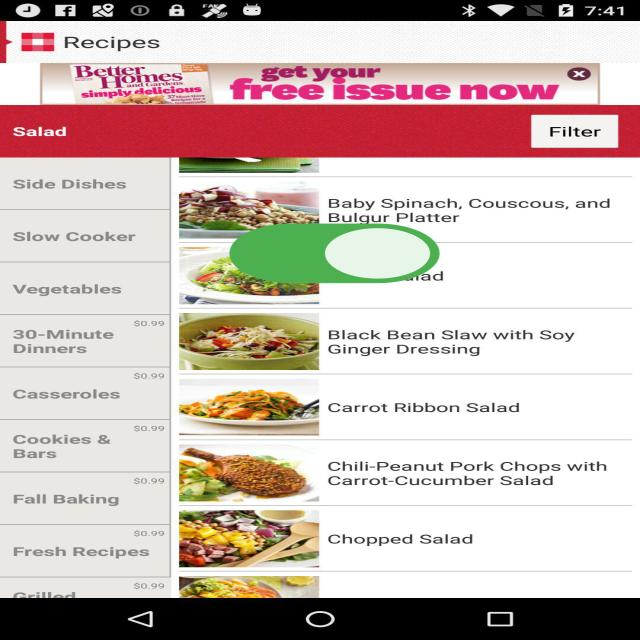social proof: (220, 200, 449, 310)
